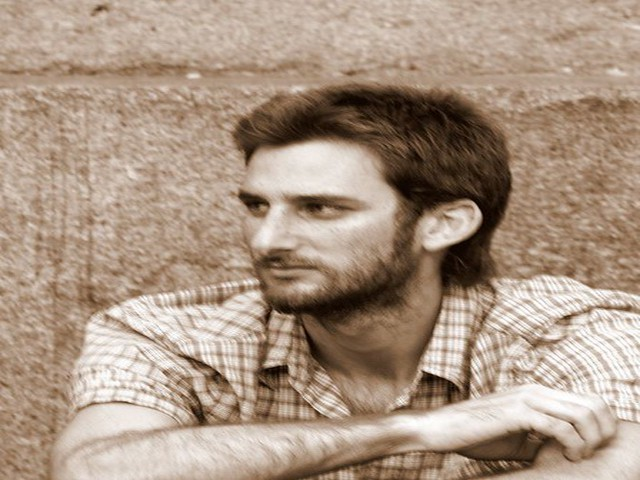Person: (65, 80, 640, 474)
